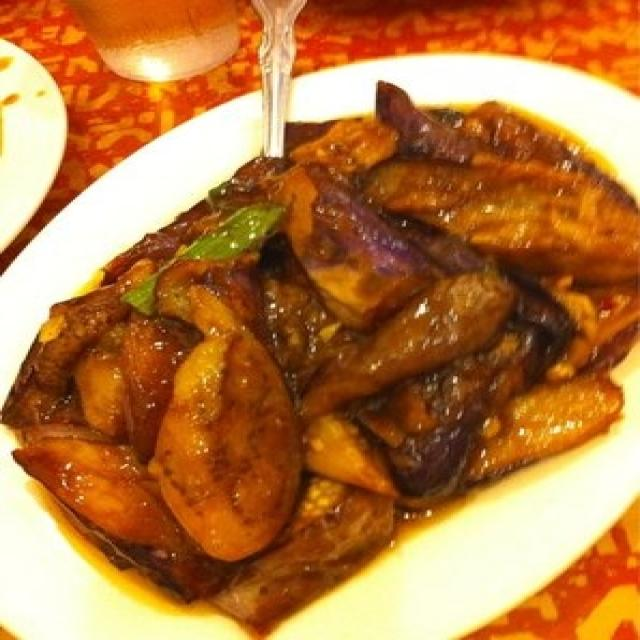鸡蛋料理: (15, 56, 629, 624)
